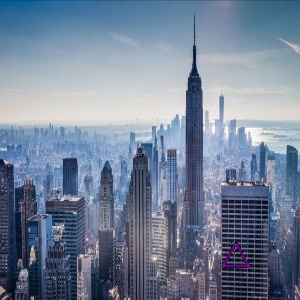triangle: (219, 241, 251, 271)
